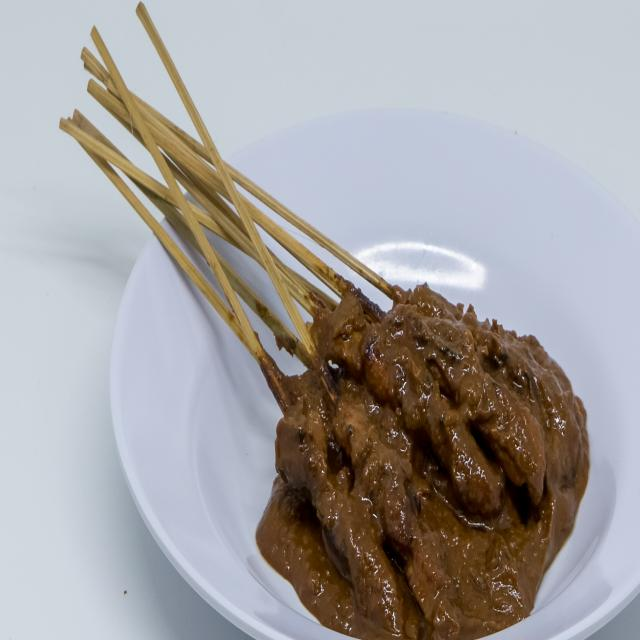Sate-Ayam: (280, 227, 601, 624)
